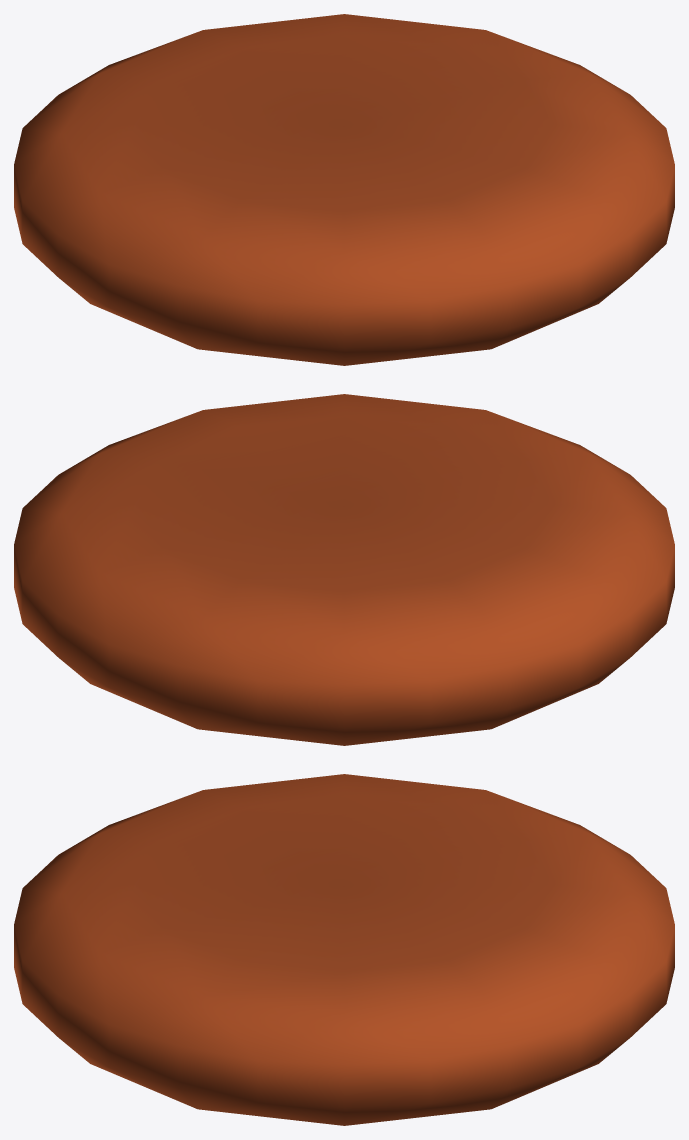
The model's file is Inazuma Cushion.fbx.
3 views of the same model, one above another, from view 1: azimuth 30°, elevation 25°; view 2: azimuth 150°, elevation 25°; view 3: azimuth 270°, elevation 25° (orthographic).
Parts seen in each view (by area): view 1: Inazuma Cushion; view 2: Inazuma Cushion; view 3: Inazuma Cushion.
Part boxes in pixels (box(x1,y1,x2,y2)): Inazuma Cushion: box(14, 14, 674, 365); Inazuma Cushion: box(14, 394, 674, 745); Inazuma Cushion: box(14, 774, 674, 1125).
Bounding box in the file's own units: 0.7467 × 0.1468 × 0.7467.
